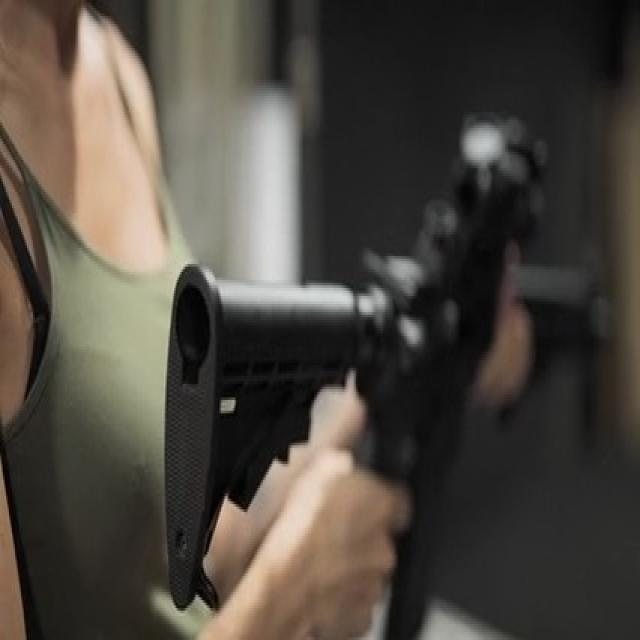Gun_Holder: (138, 27, 640, 637)
